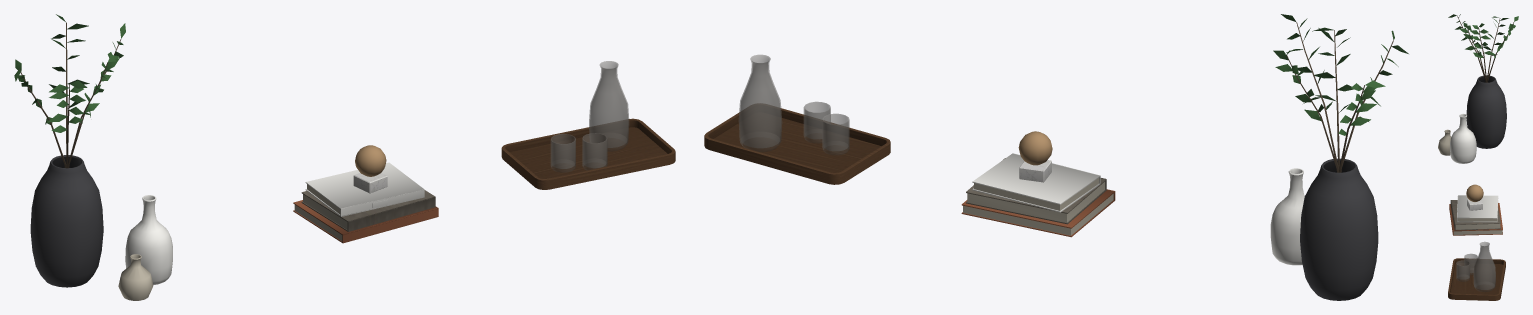
File: decor_b_vignette_sideboard.gltf
The picture shows the model from 3 angles, left to right: view 1: azimuth 30°, elevation 25°; view 2: azimuth 150°, elevation 25°; view 3: azimuth 270°, elevation 25°; orthographic projection. The views are drawn at different scales.
Visible parts, largest first — view 1: DecorBVignetteSideboard_Walnut_NoCollide, DecorBVignetteSideboard_CeramicCharcoal_NoCollide, DecorBVignetteSideboard_PaperWhite_NoCollide, DecorBVignetteSideboard_GlassSmoke_NoCollide, DecorBVignetteSideboard_Leaf_NoCollide, DecorBVignetteSideboard_WoolGreige_NoCollide, DecorBVignetteSideboard_ClothRust_NoCollide, DecorBVignetteSideboard_CeramicOat_NoCollide, DecorBVignetteSideboard_Candle_NoCollide, DecorBVignetteSideboard_Bark_NoCollide, DecorBVignetteSideboard_Bronze_NoCollide, DecorBVignetteSideboard_Marble_NoCollide; view 2: DecorBVignetteSideboard_Walnut_NoCollide, DecorBVignetteSideboard_CeramicCharcoal_NoCollide, DecorBVignetteSideboard_PaperWhite_NoCollide, DecorBVignetteSideboard_GlassSmoke_NoCollide, DecorBVignetteSideboard_Candle_NoCollide, DecorBVignetteSideboard_Leaf_NoCollide, DecorBVignetteSideboard_Bark_NoCollide, DecorBVignetteSideboard_ClothRust_NoCollide, DecorBVignetteSideboard_Bronze_NoCollide, DecorBVignetteSideboard_WoolGreige_NoCollide, DecorBVignetteSideboard_Marble_NoCollide; view 3: DecorBVignetteSideboard_CeramicCharcoal_NoCollide, DecorBVignetteSideboard_Walnut_NoCollide, DecorBVignetteSideboard_PaperWhite_NoCollide, DecorBVignetteSideboard_GlassSmoke_NoCollide, DecorBVignetteSideboard_Leaf_NoCollide, DecorBVignetteSideboard_Candle_NoCollide, DecorBVignetteSideboard_Bark_NoCollide, DecorBVignetteSideboard_WoolGreige_NoCollide, DecorBVignetteSideboard_ClothRust_NoCollide, DecorBVignetteSideboard_CeramicOat_NoCollide, DecorBVignetteSideboard_Bronze_NoCollide, DecorBVignetteSideboard_Marble_NoCollide.
Boxes of the visible parts, x1,y1,x2,y2 form: DecorBVignetteSideboard_Walnut_NoCollide: (501, 118, 675, 189); DecorBVignetteSideboard_CeramicCharcoal_NoCollide: (30, 155, 103, 287); DecorBVignetteSideboard_PaperWhite_NoCollide: (125, 162, 424, 284); DecorBVignetteSideboard_GlassSmoke_NoCollide: (550, 61, 629, 172); DecorBVignetteSideboard_Leaf_NoCollide: (14, 14, 125, 132); DecorBVignetteSideboard_WoolGreige_NoCollide: (301, 190, 435, 231); DecorBVignetteSideboard_ClothRust_NoCollide: (293, 200, 438, 243); DecorBVignetteSideboard_CeramicOat_NoCollide: (118, 254, 153, 300); DecorBVignetteSideboard_Candle_NoCollide: (294, 184, 347, 240); DecorBVignetteSideboard_Bark_NoCollide: (19, 22, 121, 168); DecorBVignetteSideboard_Bronze_NoCollide: (355, 145, 386, 176); DecorBVignetteSideboard_Marble_NoCollide: (353, 173, 387, 193); DecorBVignetteSideboard_Walnut_NoCollide: (704, 104, 890, 184); DecorBVignetteSideboard_CeramicCharcoal_NoCollide: (1300, 158, 1378, 300); DecorBVignetteSideboard_PaperWhite_NoCollide: (972, 153, 1304, 265); DecorBVignetteSideboard_GlassSmoke_NoCollide: (738, 54, 849, 155); DecorBVignetteSideboard_Candle_NoCollide: (963, 178, 1113, 235); DecorBVignetteSideboard_Leaf_NoCollide: (1273, 14, 1408, 135); DecorBVignetteSideboard_Bark_NoCollide: (1286, 22, 1393, 172); DecorBVignetteSideboard_ClothRust_NoCollide: (961, 189, 1115, 237); DecorBVignetteSideboard_Bronze_NoCollide: (1018, 131, 1052, 165); DecorBVignetteSideboard_WoolGreige_NoCollide: (966, 158, 1106, 224); DecorBVignetteSideboard_Marble_NoCollide: (1019, 160, 1051, 182); DecorBVignetteSideboard_CeramicCharcoal_NoCollide: (1466, 75, 1506, 148); DecorBVignetteSideboard_Walnut_NoCollide: (1448, 258, 1505, 300); DecorBVignetteSideboard_PaperWhite_NoCollide: (1450, 113, 1498, 222); DecorBVignetteSideboard_GlassSmoke_NoCollide: (1456, 241, 1495, 291); DecorBVignetteSideboard_Leaf_NoCollide: (1448, 14, 1518, 57); DecorBVignetteSideboard_Candle_NoCollide: (1453, 218, 1502, 234); DecorBVignetteSideboard_Bark_NoCollide: (1457, 15, 1513, 82); DecorBVignetteSideboard_WoolGreige_NoCollide: (1450, 200, 1500, 230); DecorBVignetteSideboard_ClothRust_NoCollide: (1449, 203, 1502, 235); DecorBVignetteSideboard_CeramicOat_NoCollide: (1438, 129, 1451, 155); DecorBVignetteSideboard_Bronze_NoCollide: (1466, 184, 1483, 201); DecorBVignetteSideboard_Marble_NoCollide: (1467, 199, 1482, 210).
Bounding box in the file's own units: 2.06 × 0.7587 × 0.4132.
12 materials, 3 textured.
